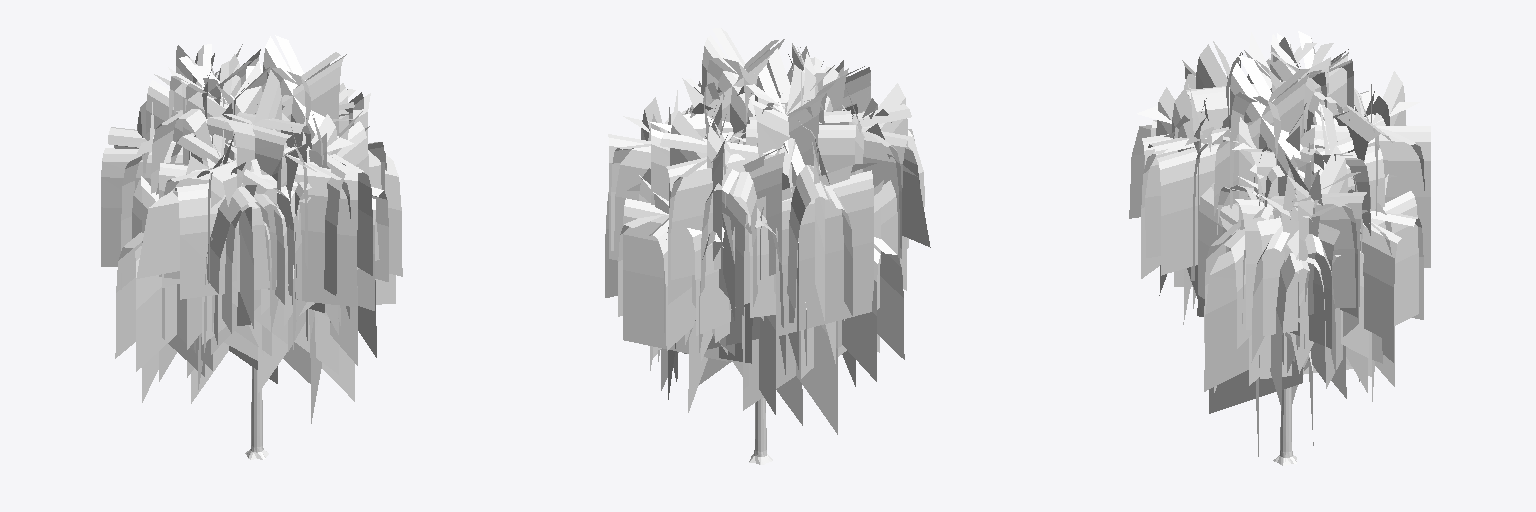
File: White_Willow_Model_0.obj
3 views of the same model, side by side, from view 1: azimuth 30°, elevation 25°; view 2: azimuth 150°, elevation 25°; view 3: azimuth 270°, elevation 25° (orthographic).
Visible parts, largest first — view 1: Foliage, Bark; view 2: Foliage, Bark; view 3: Foliage, Bark.
Part boxes in pixels (bbox=[...]): Foliage: bbox=[101, 35, 402, 423]; Bark: bbox=[245, 367, 268, 459]; Foliage: bbox=[605, 28, 930, 434]; Bark: bbox=[749, 398, 772, 464]; Foliage: bbox=[1129, 31, 1430, 456]; Bark: bbox=[1273, 387, 1296, 465].
Bounding box in the file's own units: 10.95 × 15 × 10.13.